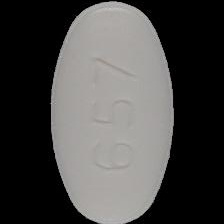54868-4565: (0, 0, 224, 224)
